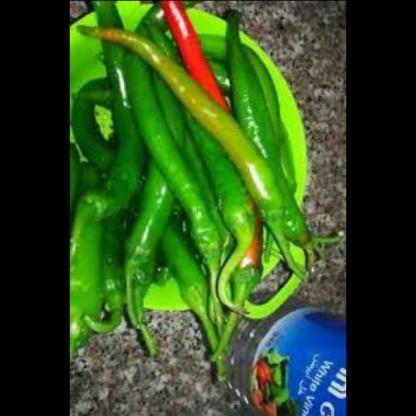hot pepper: (70, 0, 324, 374)
